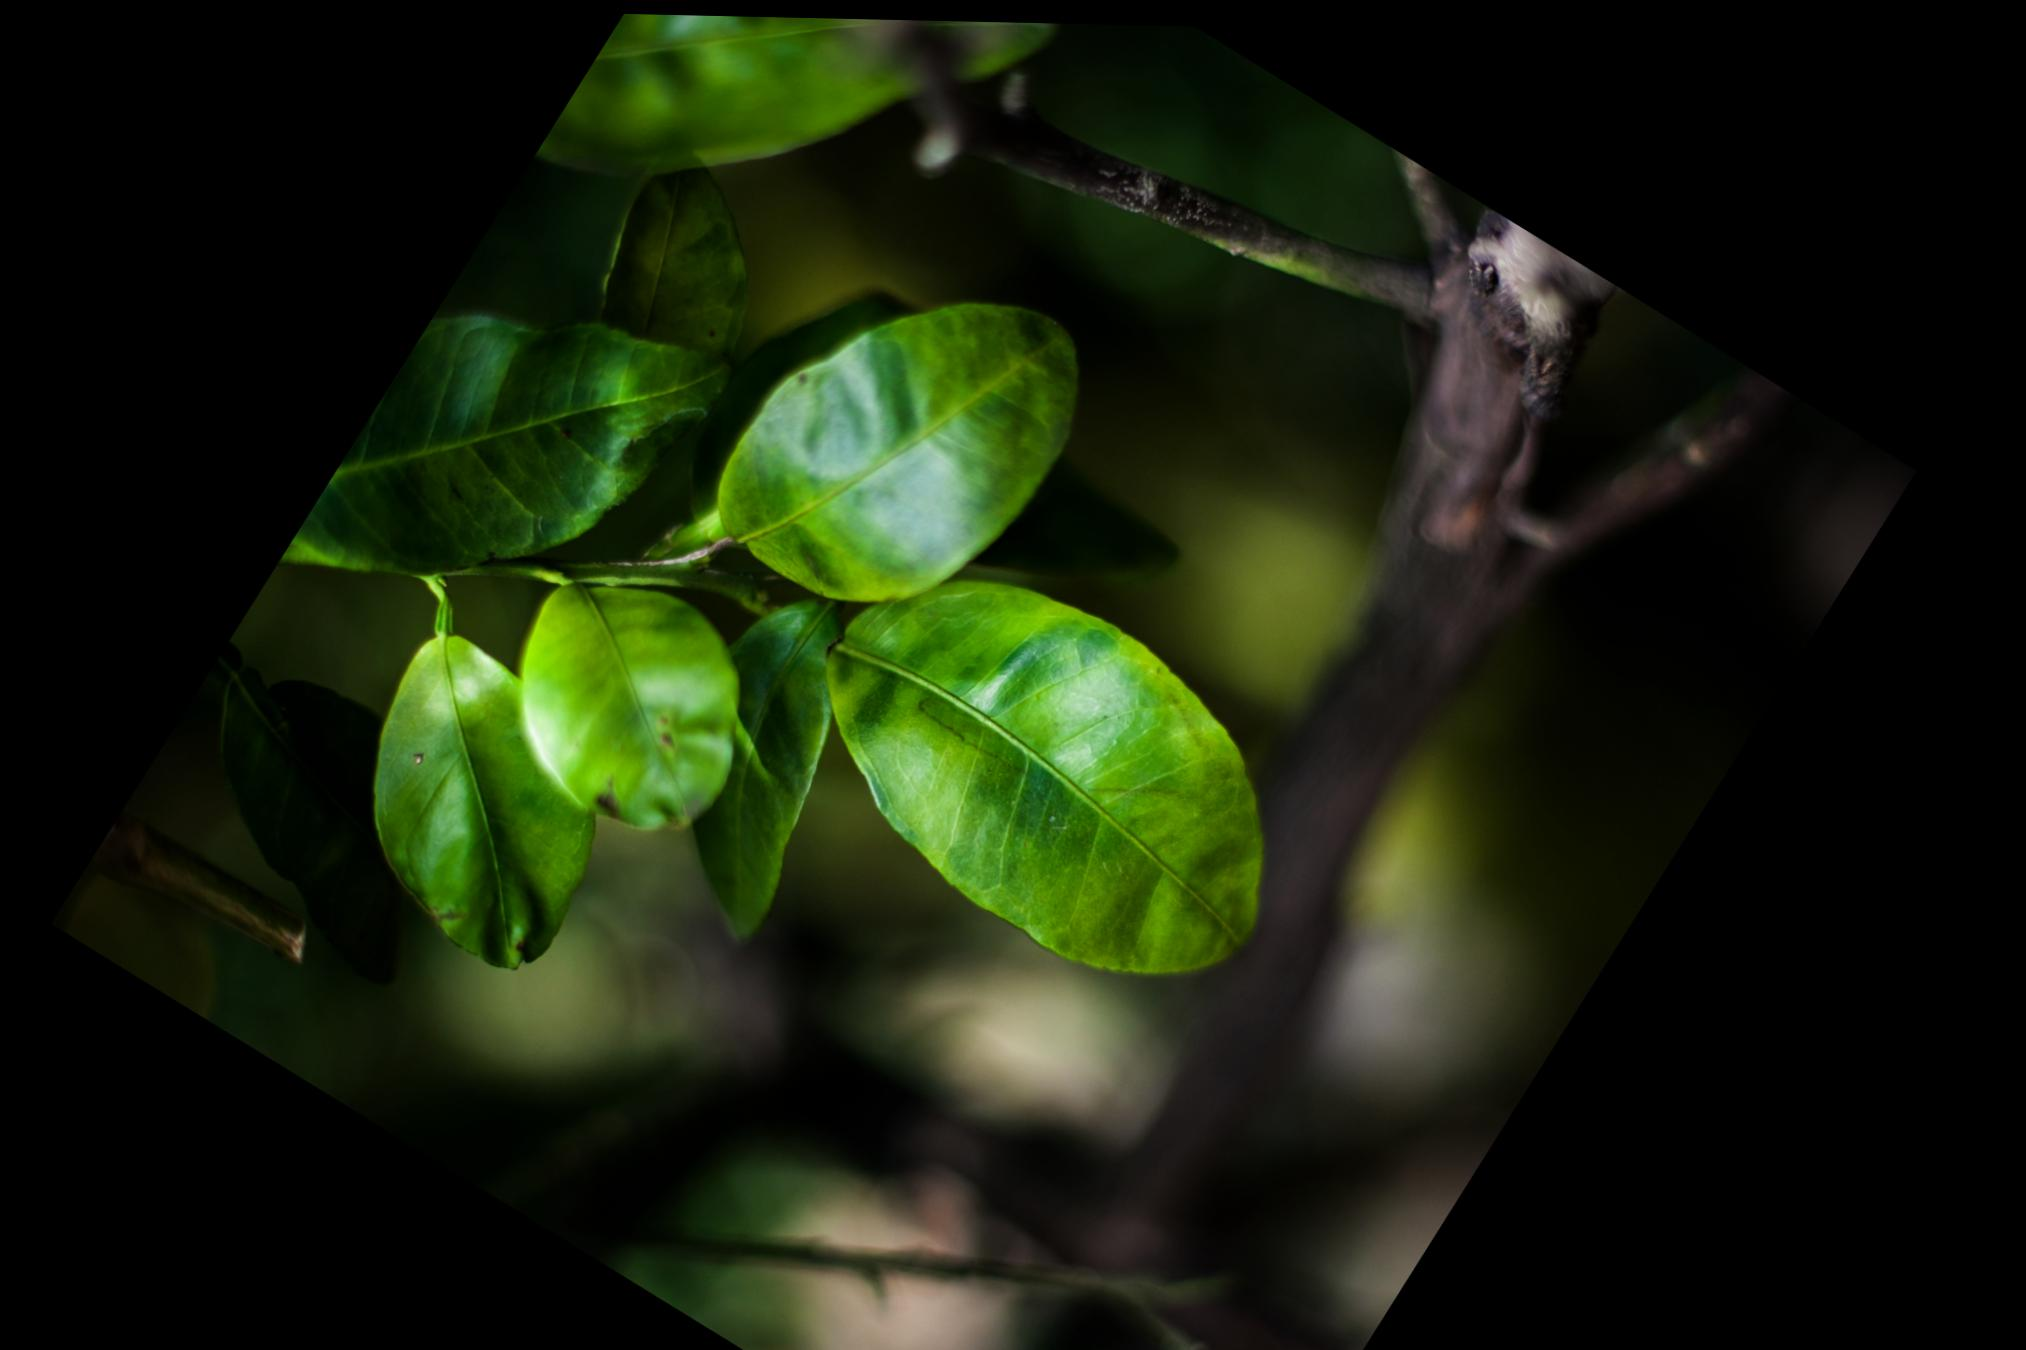Citrus Greening: (749, 494, 1378, 1040), (681, 194, 1140, 669), (289, 607, 682, 990), (459, 527, 812, 866)
